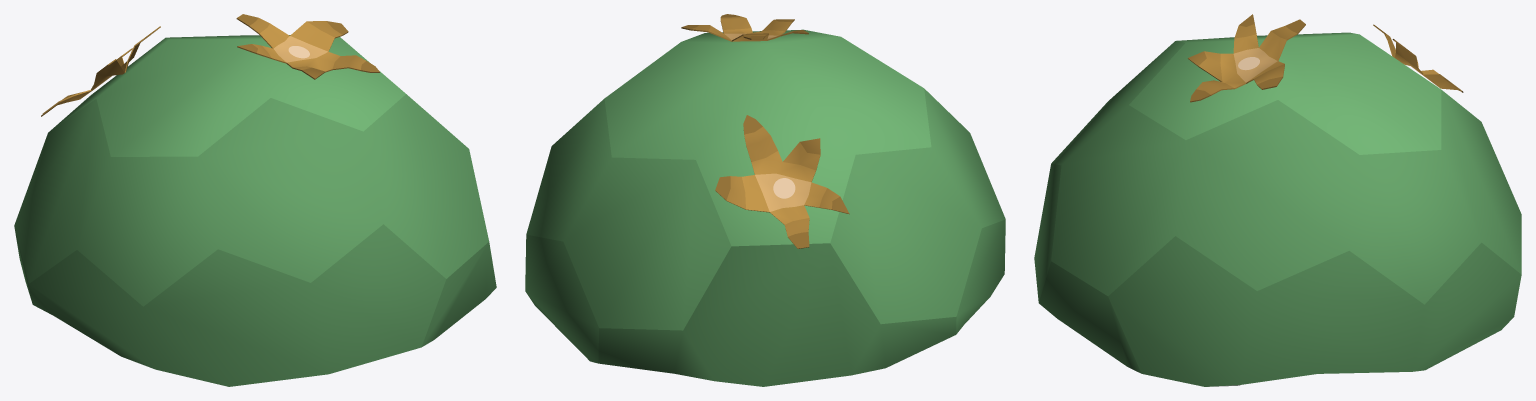
Rendered from orange2.fbx.
3 renders of one model, left to right at view 1: azimuth 30°, elevation 25°; view 2: azimuth 150°, elevation 25°; view 3: azimuth 270°, elevation 25°, orthographic. The views are drawn at different scales.
Visible parts, largest first — view 1: pSolid1, pasted__pDisc2, pDisc2; view 2: pSolid1, pDisc2, pasted__pDisc2; view 3: pSolid1, pasted__pDisc2, pDisc2.
Boxes of the visible parts, x1,y1,x2,y2 form: pSolid1: [14, 35, 496, 386]; pasted__pDisc2: [236, 14, 379, 79]; pDisc2: [41, 26, 160, 116]; pSolid1: [525, 29, 1005, 386]; pDisc2: [715, 115, 849, 248]; pasted__pDisc2: [681, 14, 808, 41]; pSolid1: [1034, 32, 1521, 386]; pasted__pDisc2: [1188, 14, 1305, 102]; pDisc2: [1373, 24, 1463, 92].
Bounding box in the file's own units: 1.97 × 1.21 × 1.95.
